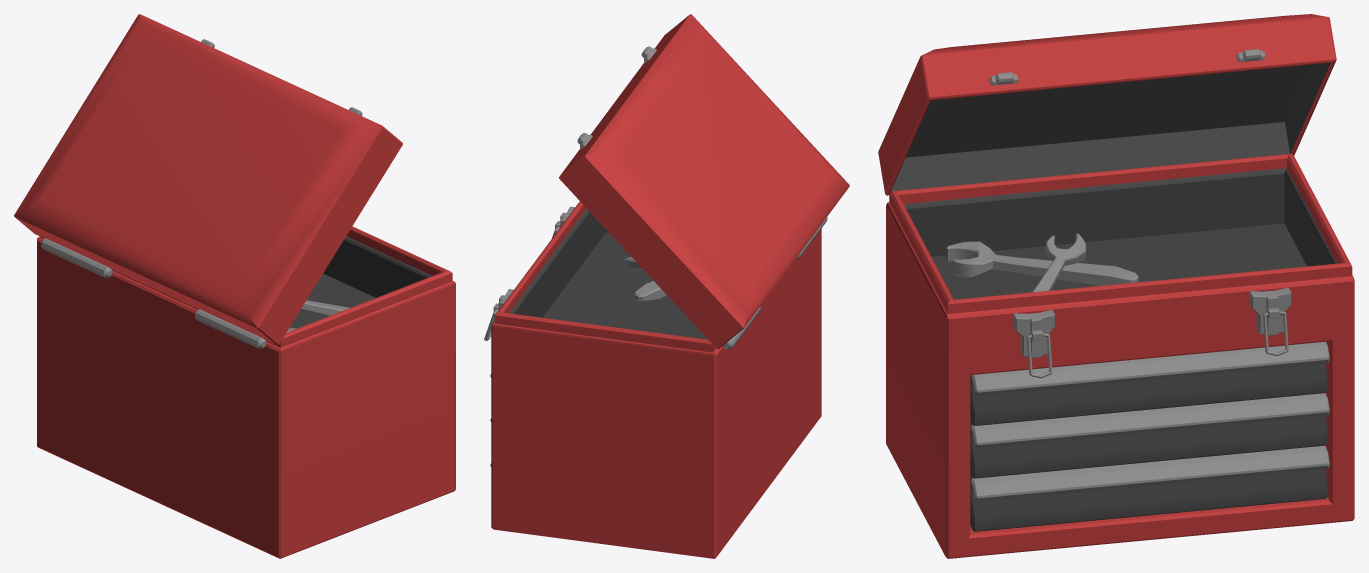
The model's file is Toolbox.fbx.
3 views of the same model, side by side, from view 1: azimuth 30°, elevation 25°; view 2: azimuth 150°, elevation 25°; view 3: azimuth 270°, elevation 25° (orthographic). The views are drawn at different scales.
Visible parts, largest first — view 1: pasted__pCube4; view 2: pasted__pCube4; view 3: pasted__pCube4.
Boxes of the visible parts, x1,y1,x2,y2 form: pasted__pCube4: [14, 14, 455, 558]; pasted__pCube4: [484, 14, 849, 558]; pasted__pCube4: [878, 14, 1354, 558].
Size of the model in its own units: 1.78 by 2.18 by 2.06.
